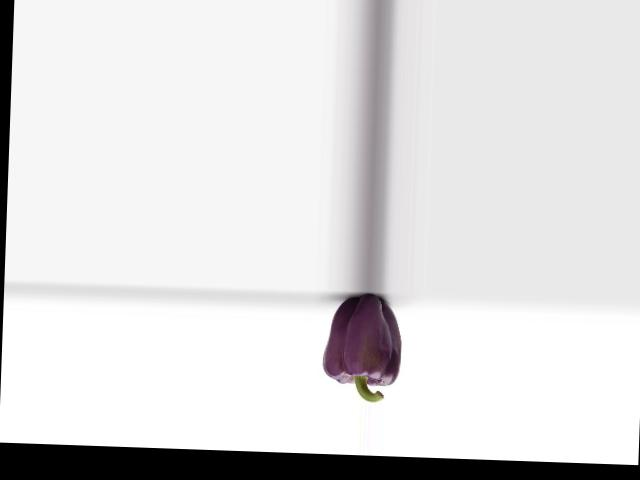bell_pepper: (315, 294, 411, 401)
